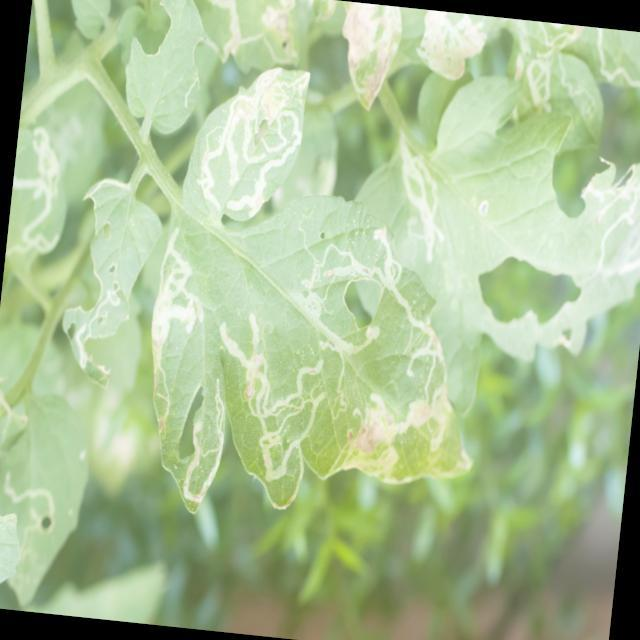Tomato target spot leaf: (152, 64, 470, 510), (499, 18, 640, 135), (196, 0, 343, 96), (6, 125, 66, 249), (582, 159, 640, 287), (64, 287, 132, 386), (341, 1, 402, 108), (412, 8, 491, 86), (402, 142, 450, 255)
